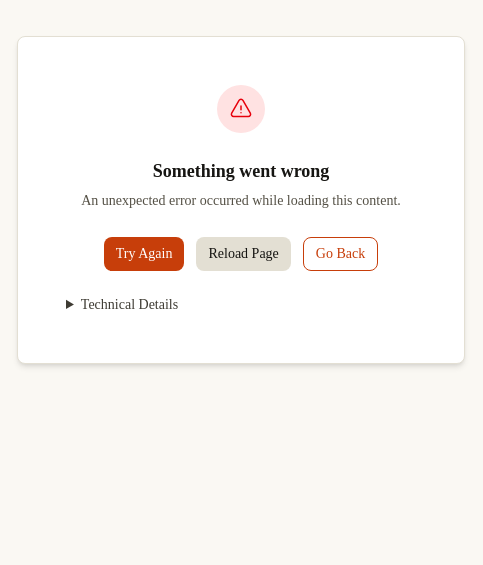
Test: ErrorFallback component › Error details › displays error message in technical details
# Click to expand details
Click the heading "Technical Details" at x=130, y=305, box [81, 297, 178, 312]
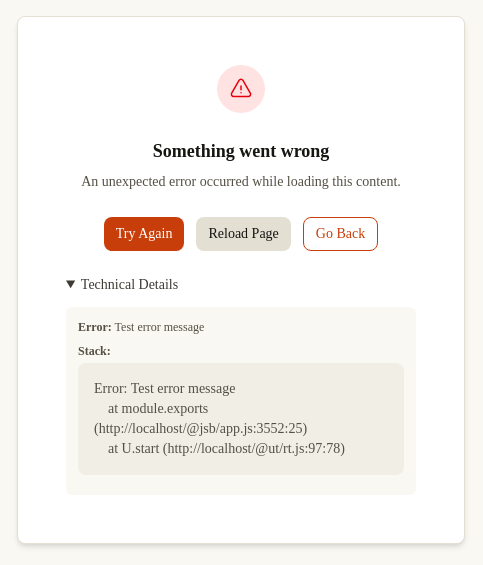
Check: the text "Test error message" is shown, box [115, 320, 204, 334]
